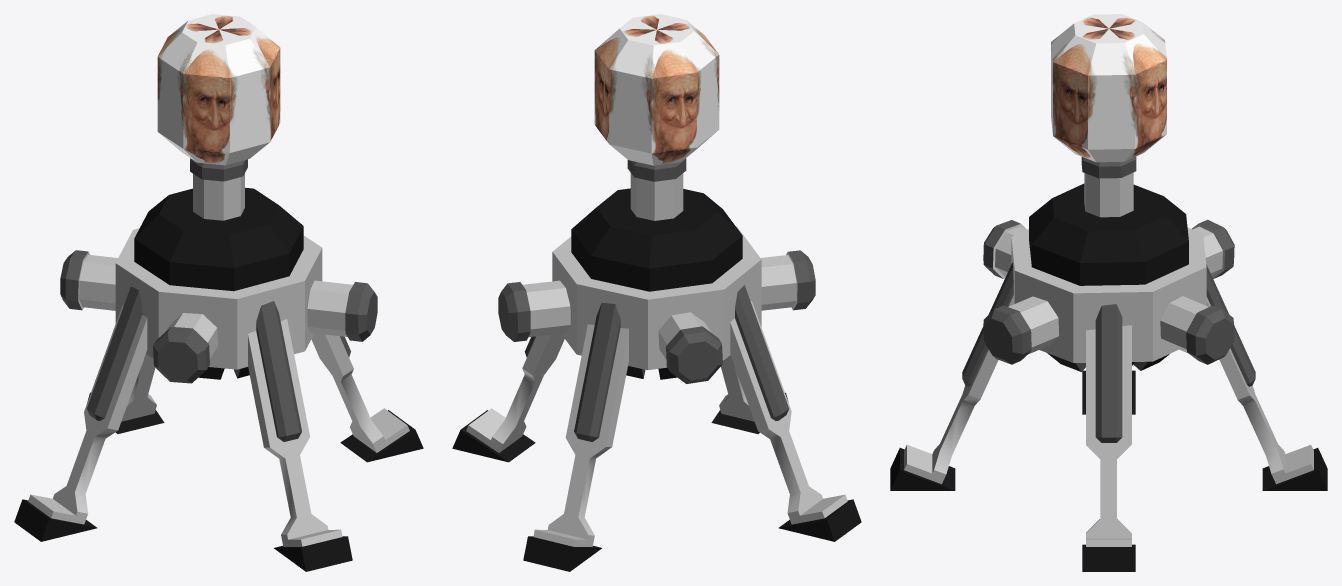
Rendered from SpawSaw.fbx.
The picture shows the model from 3 angles, left to right: view 1: azimuth 30°, elevation 25°; view 2: azimuth 150°, elevation 25°; view 3: azimuth 270°, elevation 25°; orthographic projection.
Parts seen in each view (by area): view 1: head, Cylinder_1, Cylinder_2_7, Cube_1_6_2, Cube_11, Cube_13, Cube_1_8, Cylinder_2_3, Cube_1_3_2, Cylinder_3_2, Cylinder_3_5, Cylinder_3_4 (+15 smaller); view 2: head, Cylinder_1, Cylinder_2_7, Cube_1_2_2, Cube_7, Cube_13, Cube_1_8, Cylinder_2_4, Cylinder_3, Cylinder_3_5, Cube_1_3_2, Cylinder_3_3 (+15 smaller); view 3: head, Cylinder_1, Cylinder_2_7, Cube_1_4_2, Cube_9, Cylinder_2_2, Cylinder_2, Cylinder_3_5, Cylinder_3_2, Cylinder_3, Cube_2_4, Cube_2_6 (+14 smaller).
Part boxes in pixels (box(x1,y1,x2,y2)): head: box(157, 14, 280, 165); Cylinder_1: box(134, 187, 303, 291); Cylinder_2_7: box(115, 228, 322, 369); Cube_1_6_2: box(248, 319, 340, 539); Cube_11: box(256, 301, 301, 441); Cube_13: box(87, 286, 142, 420); Cube_1_8: box(31, 305, 147, 515); Cylinder_2_3: box(153, 327, 209, 383); Cube_1_3_2: box(311, 333, 409, 452); Cylinder_3_2: box(307, 280, 352, 336); Cylinder_3_5: box(193, 173, 244, 220); Cylinder_3_4: box(79, 254, 117, 310); head: box(594, 14, 719, 165); Cylinder_1: box(571, 188, 742, 291); Cylinder_2_7: box(552, 226, 761, 370); Cube_1_2_2: box(535, 324, 628, 539); Cube_7: box(574, 302, 620, 441); Cube_13: box(735, 285, 789, 420); Cube_1_8: box(730, 301, 844, 515); Cylinder_2_4: box(666, 326, 722, 383); Cylinder_3: box(522, 280, 570, 337); Cylinder_3_5: box(630, 173, 683, 220); Cube_1_3_2: box(466, 333, 564, 452); Cylinder_3_3: box(761, 255, 796, 310); head: box(1051, 14, 1166, 162); Cylinder_1: box(1029, 183, 1188, 285); Cylinder_2_7: box(1011, 228, 1206, 362); Cube_1_4_2: box(1086, 325, 1131, 539); Cube_9: box(1095, 304, 1122, 442); Cylinder_2_2: box(983, 305, 1031, 364); Cylinder_2: box(1186, 305, 1234, 364); Cylinder_3_5: box(1084, 172, 1133, 217); Cylinder_3_2: box(1008, 296, 1059, 354); Cylinder_3: box(1160, 296, 1208, 352); Cube_2_4: box(1082, 544, 1135, 571); Cube_2_6: box(890, 448, 955, 490).
Size of the model in its own units: 354 by 403 by 354.
4 materials, 1 textured.
